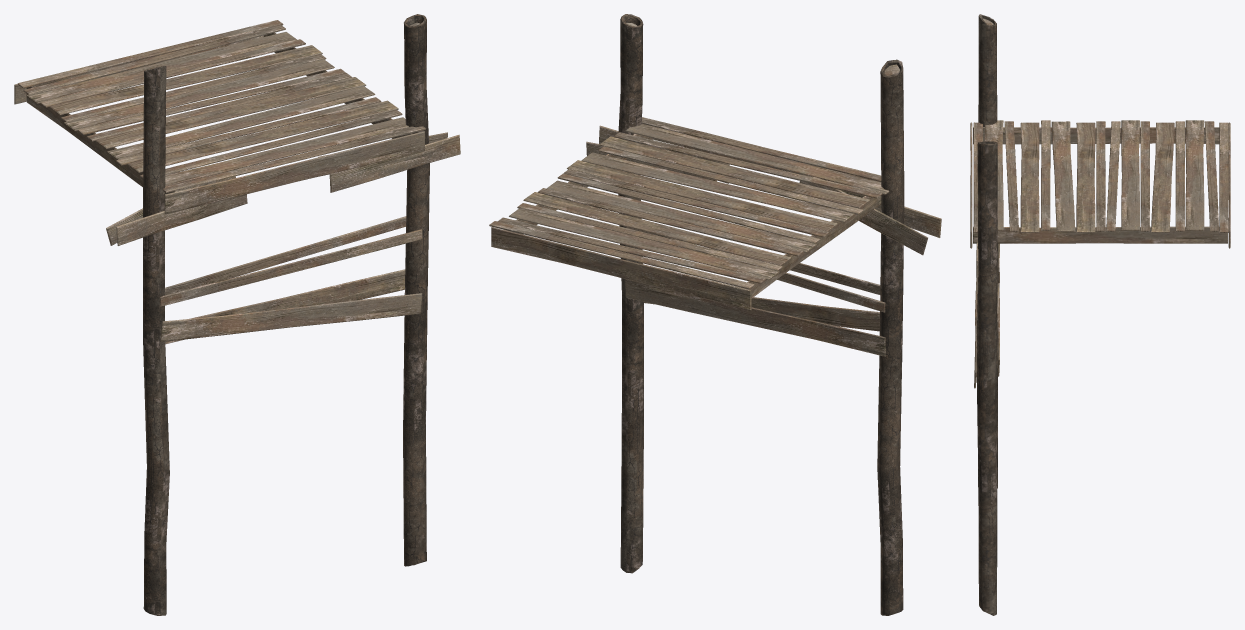
File: SM_Gangway_04.fbx
3 renders of one model, left to right at view 1: azimuth 30°, elevation 25°; view 2: azimuth 150°, elevation 25°; view 3: azimuth 270°, elevation 25°, orthographic. The views are drawn at different scales.
Parts seen in each view (by area): view 1: SM_Gangway_04_LOD0; view 2: SM_Gangway_04_LOD0; view 3: SM_Gangway_04_LOD0.
Part boxes in pixels (x1,y1,x2,y2): SM_Gangway_04_LOD0: [14, 14, 460, 615]; SM_Gangway_04_LOD0: [489, 14, 941, 615]; SM_Gangway_04_LOD0: [970, 14, 1230, 615].
Size of the model in its own units: 528 by 403 by 836.
Materials: 3 (3 with a texture image).
